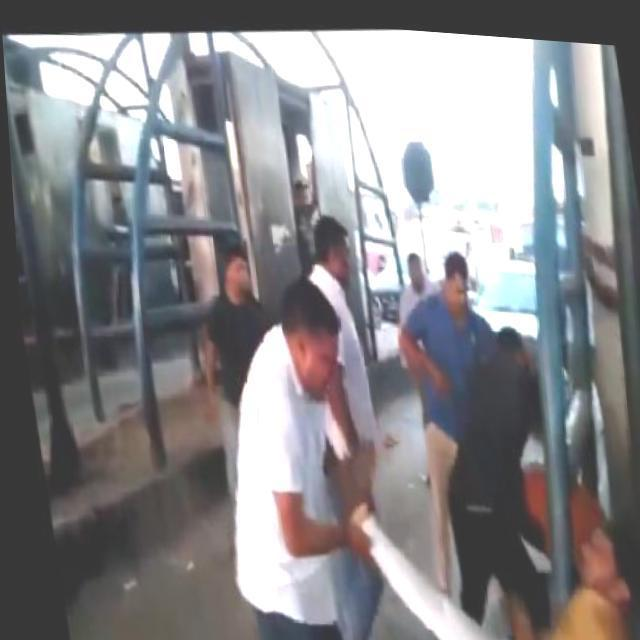fight: (409, 308, 568, 607)
